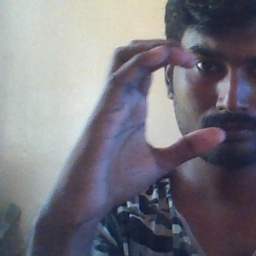C: (97, 31, 228, 165)
